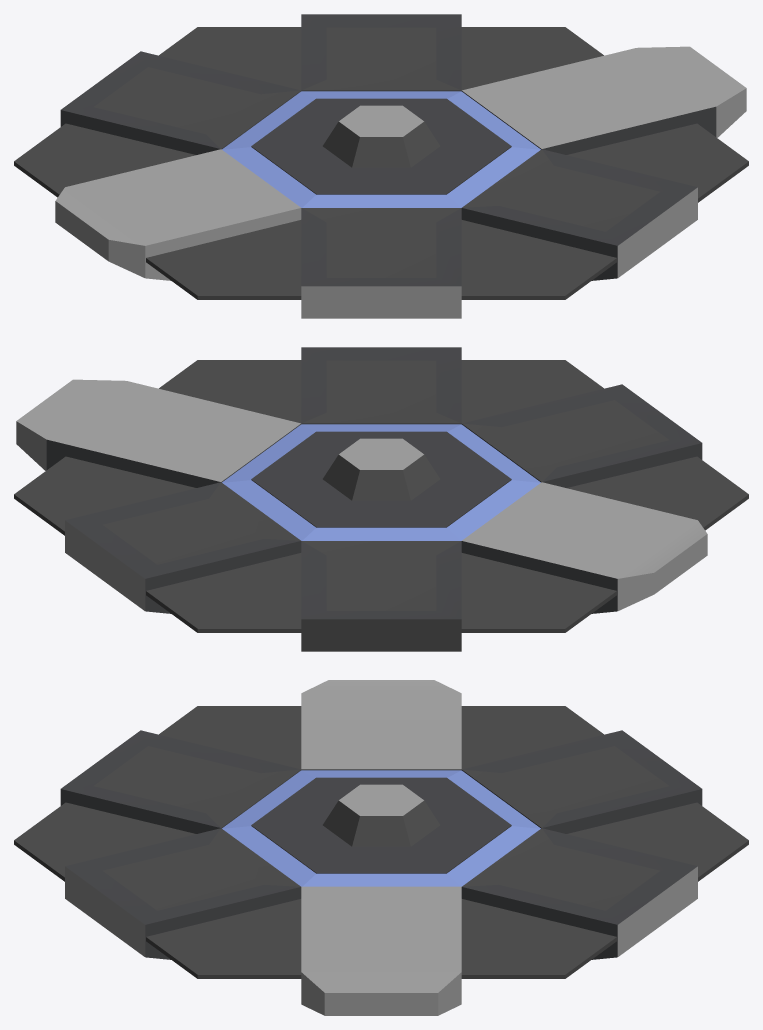
The model's file is ROOM Factory1.fbx.
3 views of the same model, one above another, from view 1: azimuth 30°, elevation 25°; view 2: azimuth 150°, elevation 25°; view 3: azimuth 270°, elevation 25° (orthographic).
Visible parts, largest first — view 1: Room5_drone_building_1; view 2: Room5_drone_building_1; view 3: Room5_drone_building_1.
Boxes of the visible parts, <box> form: Room5_drone_building_1: <box>14,14,748,318</box>; Room5_drone_building_1: <box>14,347,748,651</box>; Room5_drone_building_1: <box>14,680,748,1015</box>.
Bounding box in the file's own units: 1051 × 179 × 1051.
